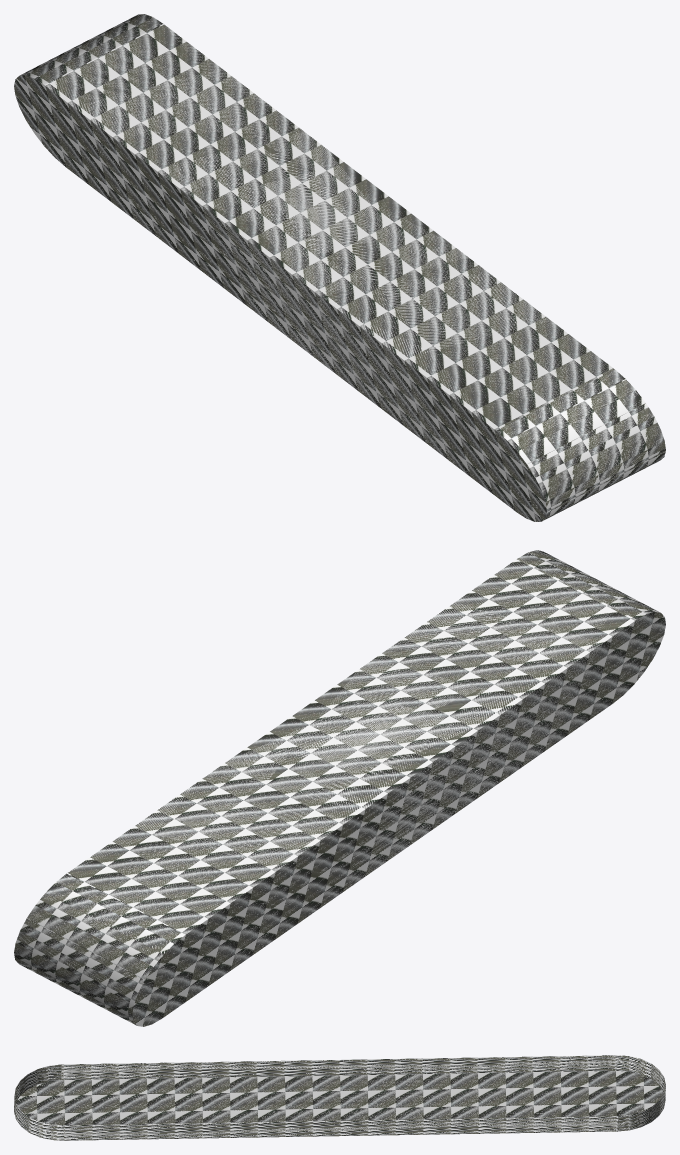
The model's file is original-45.obj.
3 views of the same model, one above another, from view 1: azimuth 30°, elevation 25°; view 2: azimuth 150°, elevation 25°; view 3: azimuth 270°, elevation 25° (orthographic). The views are drawn at different scales.
Parts seen in each view (by area): view 1: mesh123/mesh123-geometry#mesh123-geometry; view 2: mesh123/mesh123-geometry#mesh123-geometry; view 3: mesh123/mesh123-geometry#mesh123-geometry.
Boxes of the visible parts, x1,y1,x2,y2 form: mesh123/mesh123-geometry#mesh123-geometry: (14,14,665,521); mesh123/mesh123-geometry#mesh123-geometry: (14,550,665,1026); mesh123/mesh123-geometry#mesh123-geometry: (14,1055,665,1140).
Size of the model in its own units: 0.035 by 0.0322 by 0.2287.
